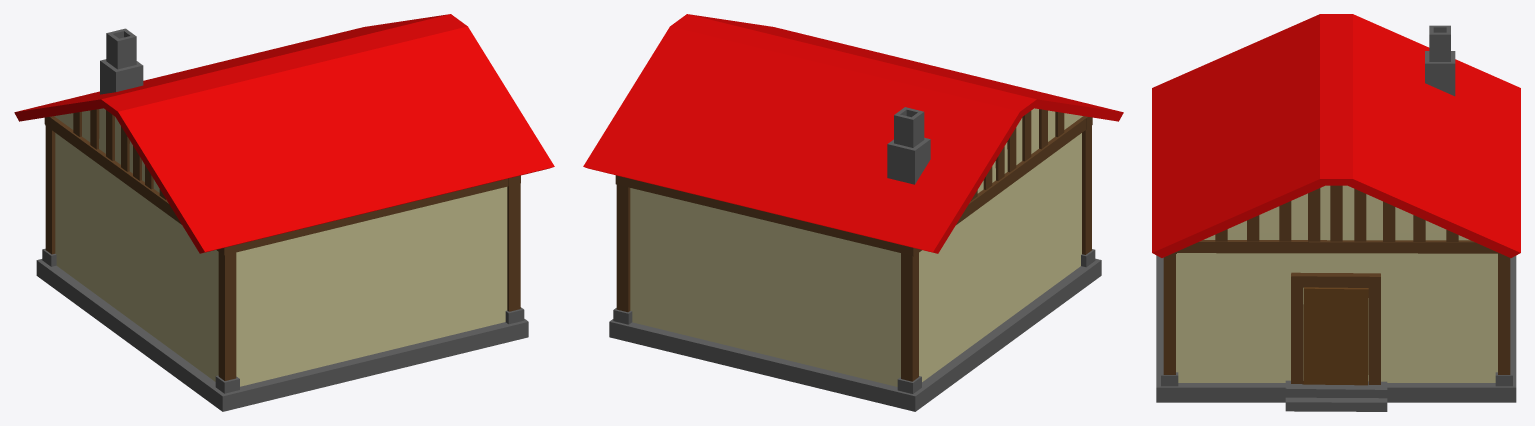
Rendered from house2v2_big.fbx.
3 renders of one model, left to right at view 1: azimuth 30°, elevation 25°; view 2: azimuth 150°, elevation 25°; view 3: azimuth 270°, elevation 25°, orthographic. The views are drawn at different scales.
Visible parts, largest first — view 1: Cube, Cube.002, Cube.020, Cube.035, Cube.043, Cube.022, Cube.003, Cube.021; view 2: Cube, Cube.002, Cube.034, Cube.043, Cube.021, Cube.022, Cube.004, Cube.020; view 3: Cube.002, Cube, Cube.036, Cube.005, Cube.001, Cube.043, Cube.003, Cube.004, Cube.018, Cube.017, Cube.019, Cube.013 (+4 smaller).
Boxes of the visible parts, bbox=[...] form: Cube: bbox=[36, 108, 528, 411]; Cube.002: bbox=[14, 14, 554, 253]; Cube.020: bbox=[218, 245, 236, 380]; Cube.035: bbox=[217, 176, 520, 255]; Cube.043: bbox=[100, 28, 143, 94]; Cube.022: bbox=[45, 117, 217, 250]; Cube.003: bbox=[507, 175, 520, 311]; Cube.021: bbox=[45, 126, 55, 254]; Cube: bbox=[609, 108, 1101, 411]; Cube.002: bbox=[583, 14, 1123, 253]; Cube.034: bbox=[615, 175, 919, 255]; Cube.043: bbox=[887, 107, 930, 184]; Cube.021: bbox=[901, 253, 918, 381]; Cube.022: bbox=[913, 116, 1087, 256]; Cube.004: bbox=[616, 184, 630, 312]; Cube.020: bbox=[1082, 125, 1091, 254]; Cube.002: bbox=[1152, 14, 1520, 257]; Cube: bbox=[1156, 185, 1516, 402]; Cube.036: bbox=[1303, 287, 1368, 385]; Cube.005: bbox=[1177, 240, 1497, 253]; Cube.001: bbox=[1285, 380, 1387, 411]; Cube.043: bbox=[1425, 25, 1455, 96]; Cube.003: bbox=[1163, 254, 1175, 374]; Cube.004: bbox=[1498, 253, 1510, 374]; Cube.018: bbox=[1291, 272, 1380, 287]; Cube.017: bbox=[1368, 274, 1380, 384]; Cube.019: bbox=[1291, 274, 1303, 384]; Cube.013: bbox=[1330, 185, 1342, 241].
Size of the model in its own units: 400 by 283 by 378.
